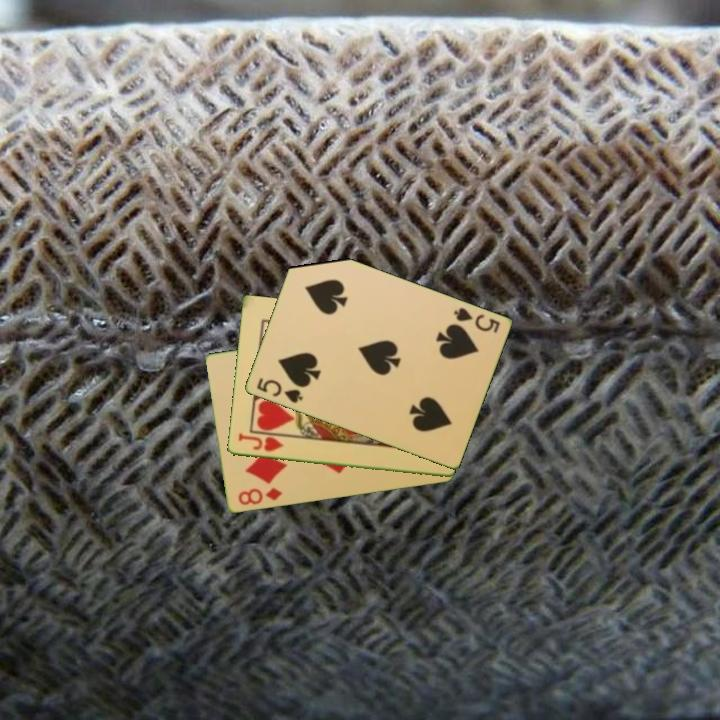5s: (450, 304, 503, 336), (253, 374, 305, 406)
8d: (234, 484, 285, 508)
Jh: (235, 430, 286, 455)
